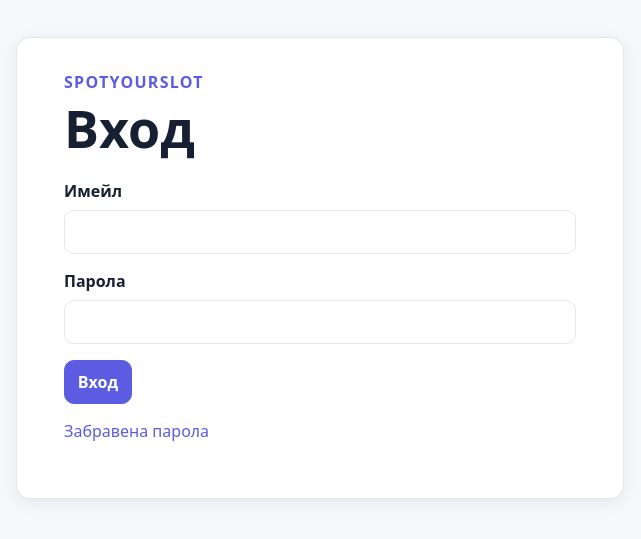
Test: identity application › shows the safe login failure
This screenshot has width=641, height=539.
In the field labelled "Имейл": (320, 232) [64,210,576,254], type "owner@example.invalid"
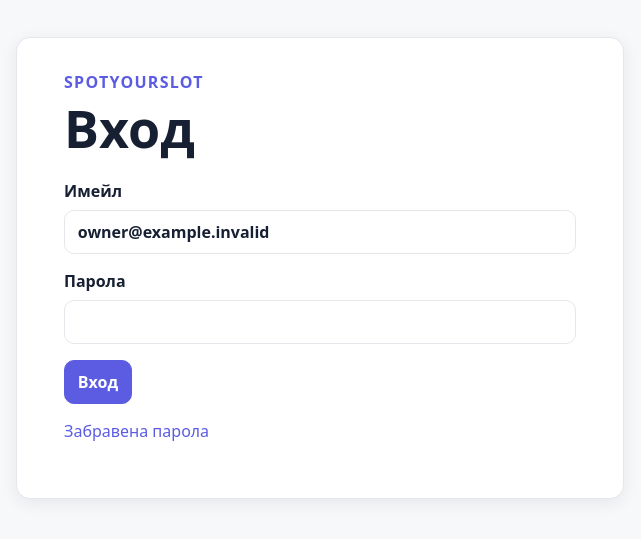
In the password field labelled "Парола": (320, 322) [64,300,576,344], type "wrong password"
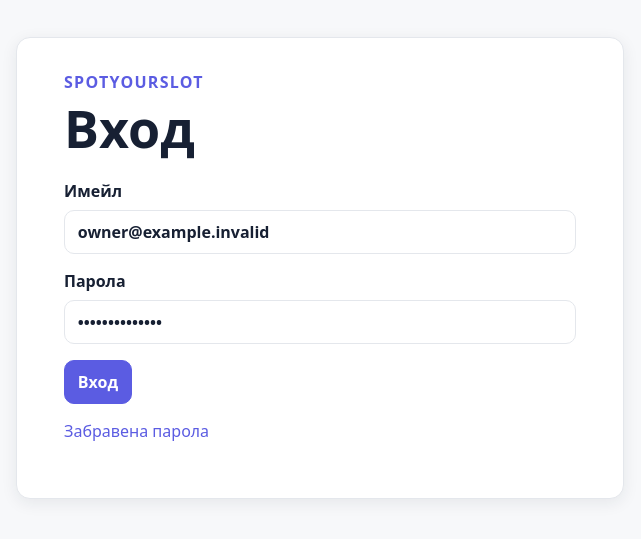
Click the button "Вход": (98, 382) [64,360,132,404]
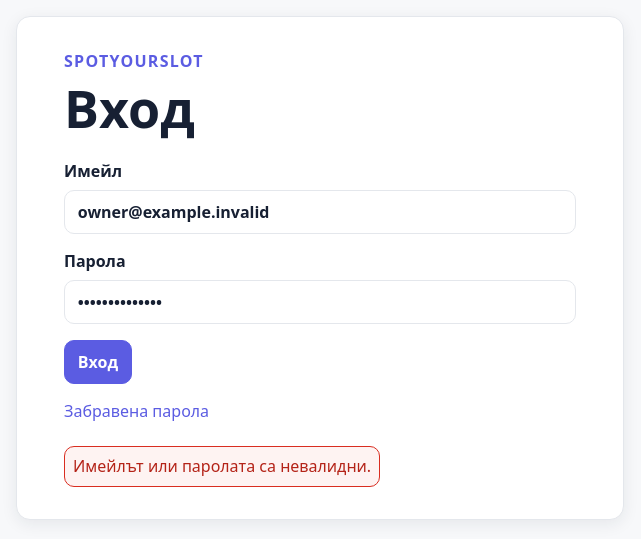
Expected: the message reads "Имейлът или паролата са невалидни.", [73,455,371,477]
